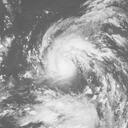cyclone: (39, 29, 89, 84)
